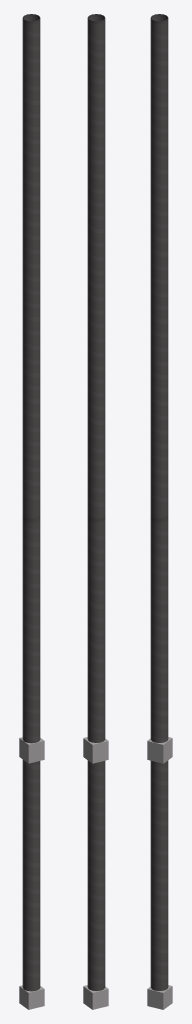
The model's file is catwalkpipe1.fbx.
3 renders of one model, left to right at view 1: azimuth 30°, elevation 25°; view 2: azimuth 210°, elevation 25°; view 3: azimuth 330°, elevation 25°, orthographic.
Parts seen in each view (by area): view 1: catwalkpipe1; view 2: catwalkpipe1; view 3: catwalkpipe1.
Part boxes in pixels (x1,y1,x2,y2): catwalkpipe1: (19, 14, 44, 1009); catwalkpipe1: (83, 14, 108, 1009); catwalkpipe1: (147, 14, 172, 1009).
Bounding box in the file's own units: 1.44 × 83.72 × 1.44.
